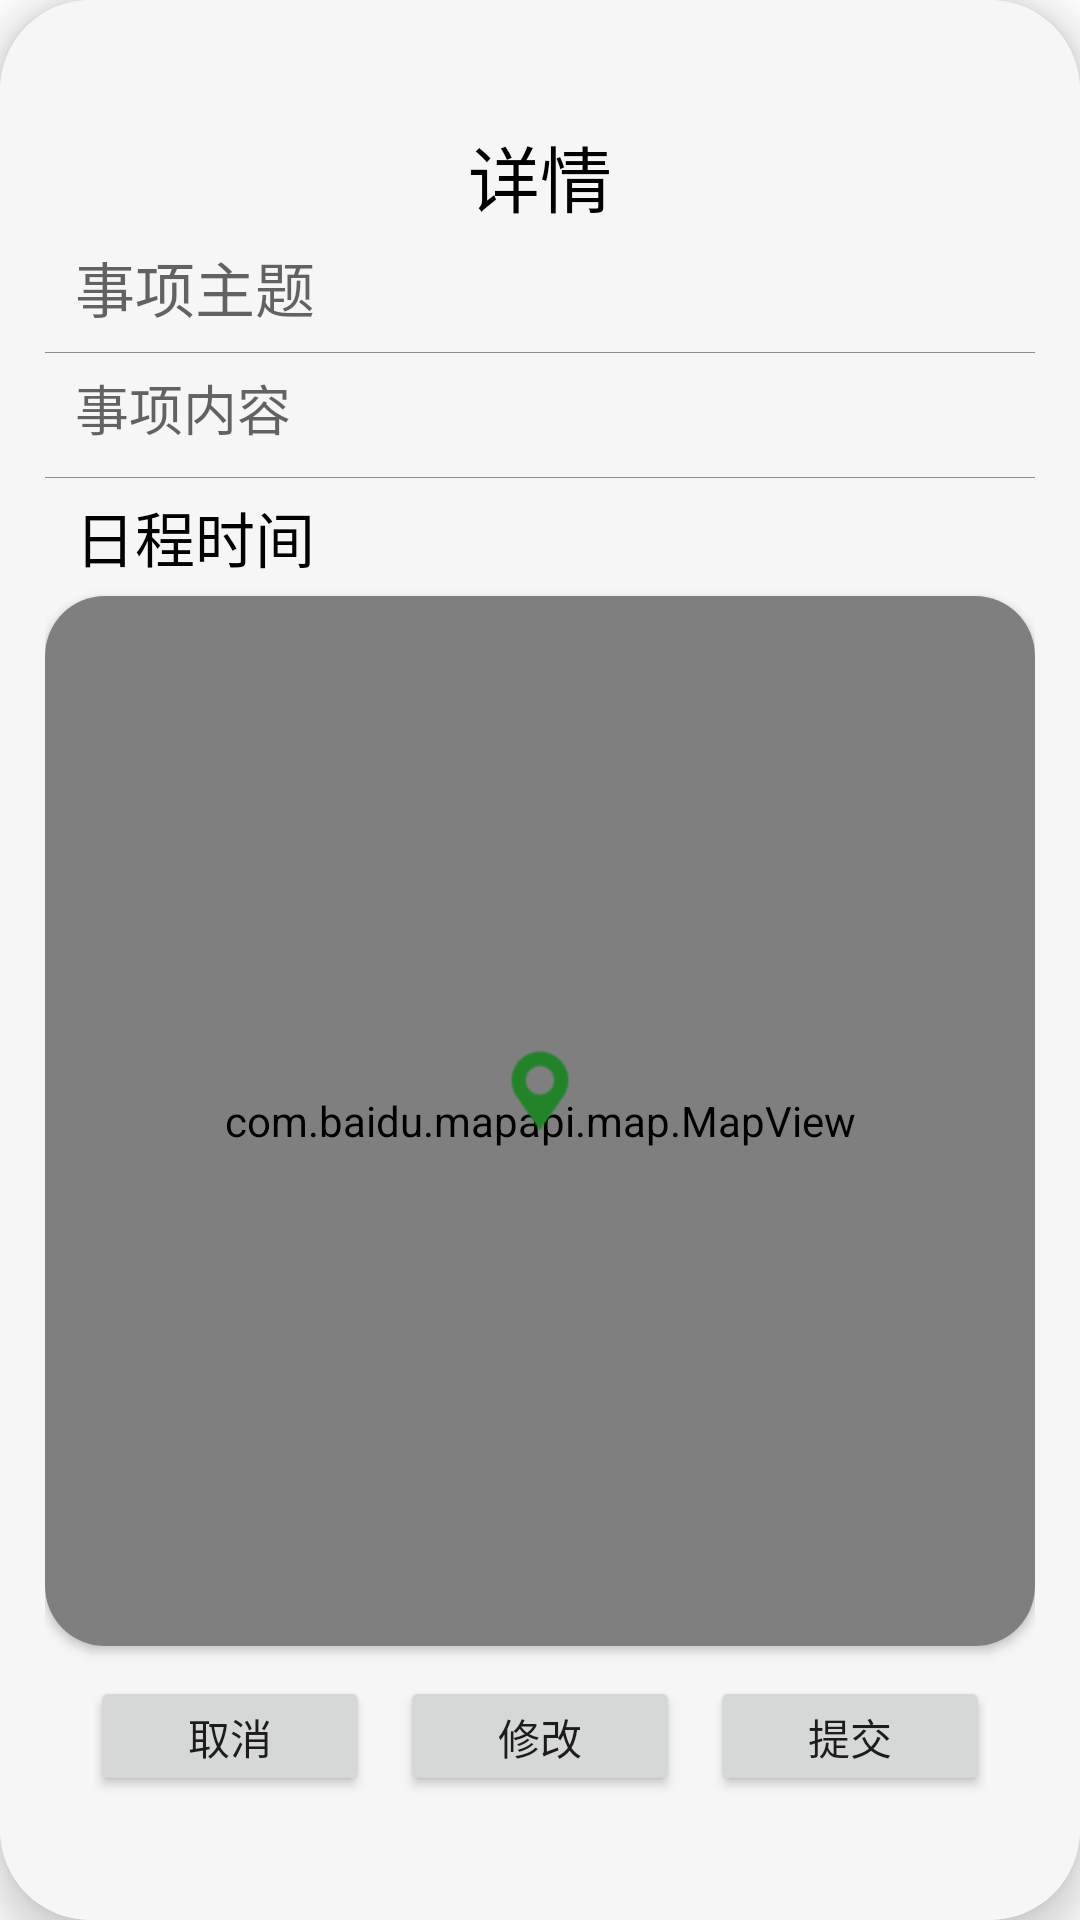

Locate icon controls on the screen. Image size 1080 x 1920, boxes as [x1, y1, x2, y2].
marker: [497, 1051, 583, 1136]
